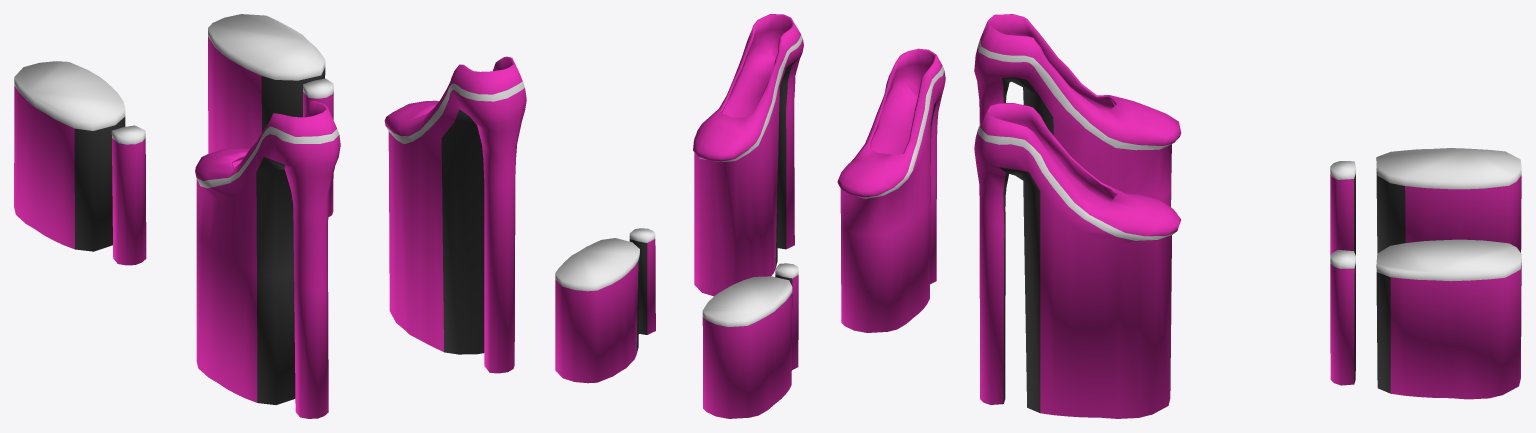
The model's file is high_heels_shoes 1.fbx.
3 views of the same model, side by side, from view 1: azimuth 30°, elevation 25°; view 2: azimuth 150°, elevation 25°; view 3: azimuth 270°, elevation 25° (orthographic). The views are drawn at different scales.
Parts seen in each view (by area): view 1: stack_shoes, stack_shoes.001, stack_shoes_small, stack_shoes_small.001; view 2: stack_shoes, stack_shoes.001, stack_shoes_small.001, stack_shoes_small; view 3: stack_shoes.001, stack_shoes_small.001, stack_shoes, stack_shoes_small.
Part boxes in pixels (x1,y1,x2,y2): stack_shoes: (195, 100, 340, 418); stack_shoes.001: (384, 56, 526, 373); stack_shoes_small: (14, 61, 146, 265); stack_shoes_small.001: (208, 14, 333, 217); stack_shoes: (837, 48, 945, 332); stack_shoes.001: (693, 14, 803, 296); stack_shoes_small.001: (555, 228, 655, 383); stack_shoes_small: (702, 263, 798, 418); stack_shoes.001: (974, 103, 1180, 418); stack_shoes_small.001: (1330, 239, 1521, 399); stack_shoes: (974, 14, 1181, 206); stack_shoes_small: (1330, 148, 1521, 255).
Size of the model in its own units: 51.98 by 55.78 by 94.88.
